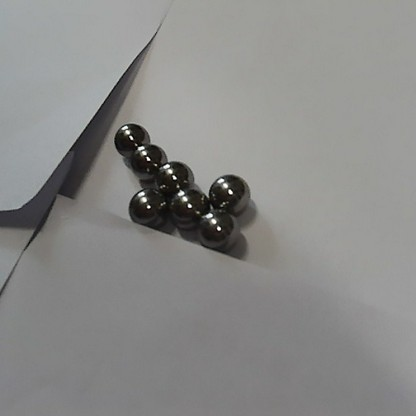ironball: (209, 173, 249, 213), (127, 187, 167, 227), (168, 190, 206, 229), (200, 210, 235, 249), (156, 159, 190, 195), (113, 122, 149, 155), (134, 146, 166, 174)
